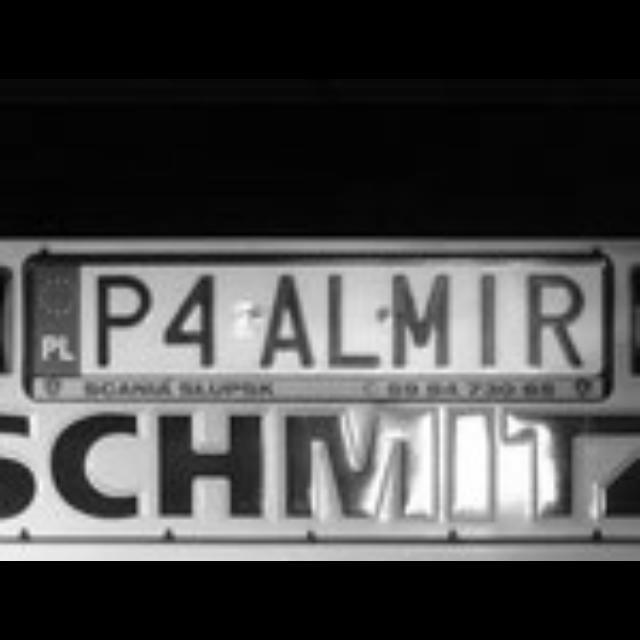licenseplate: (26, 259, 597, 369)
